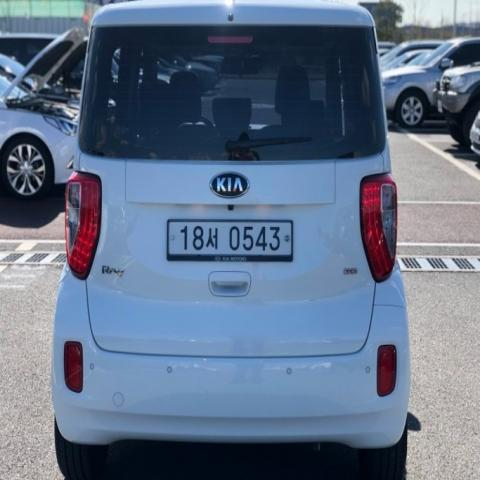LP: (161, 214, 296, 266)
